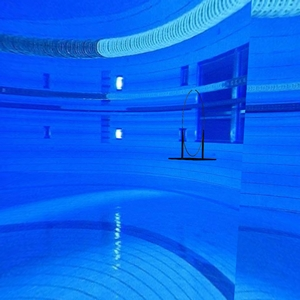circle: (167, 88, 220, 163)
